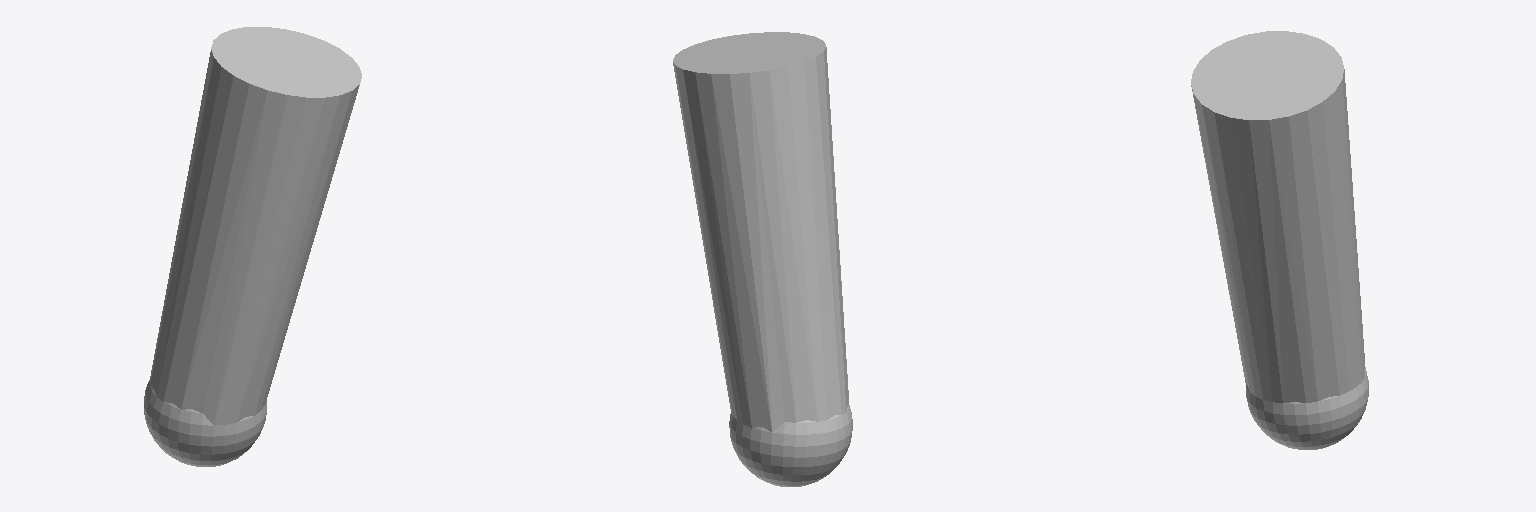
Rendered from Left Lower Leg.obj.
3 renders of one model, left to right at view 1: azimuth 30°, elevation 25°; view 2: azimuth 150°, elevation 25°; view 3: azimuth 270°, elevation 25°, orthographic.
Visible parts, largest first — view 1: Left_Lower_Leg_Sphere.014; view 2: Left_Lower_Leg_Sphere.014; view 3: Left_Lower_Leg_Sphere.014.
Boxes of the visible parts, box(x1,y1,x2,y2) form: Left_Lower_Leg_Sphere.014: box(144, 27, 361, 466); Left_Lower_Leg_Sphere.014: box(673, 32, 852, 486); Left_Lower_Leg_Sphere.014: box(1191, 31, 1368, 449).
Bounding box in the file's own units: 0.8659 × 1.89 × 0.7388.